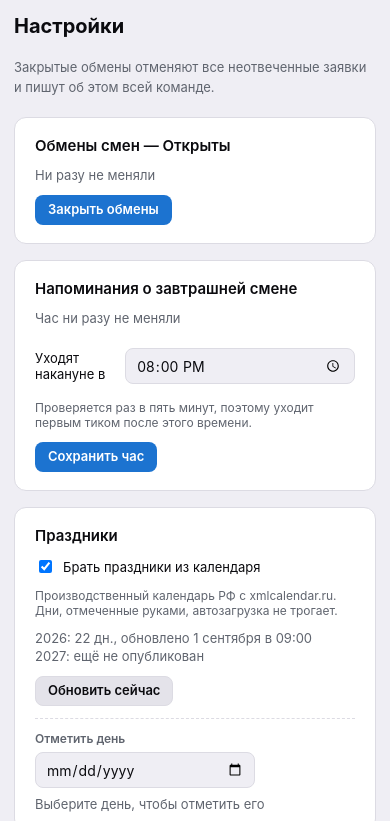
Test: «Настройки» консоли: праздники › отказ обновления виден в блоке, а кнопка остаётся
Click the button "Обновить сейчас": (104, 691) [35,676,174,706]
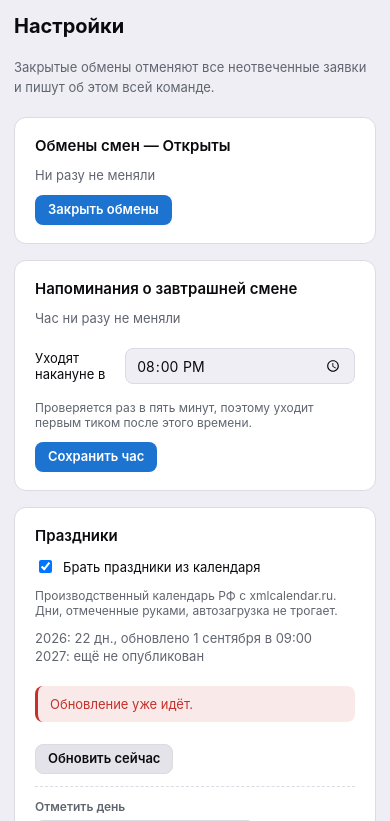
Expected: the button "Обновить сейчас" is enabled, [35,744,174,774]
Expected: the element that starts with "Праздники" shows "Обновление уже идёт.", [50,696,193,712]
